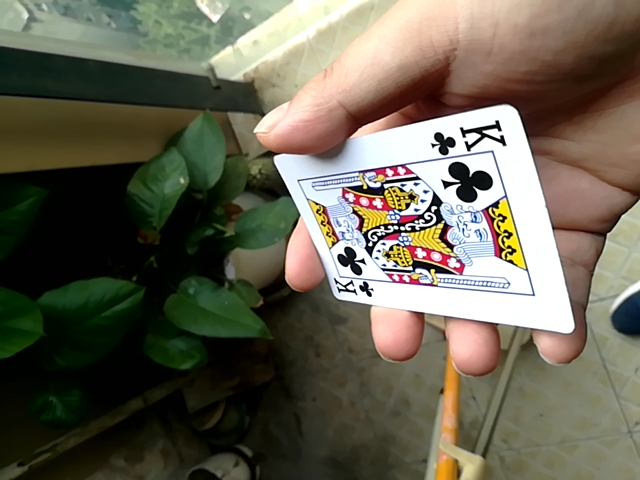mh k: (268, 108, 573, 332)
